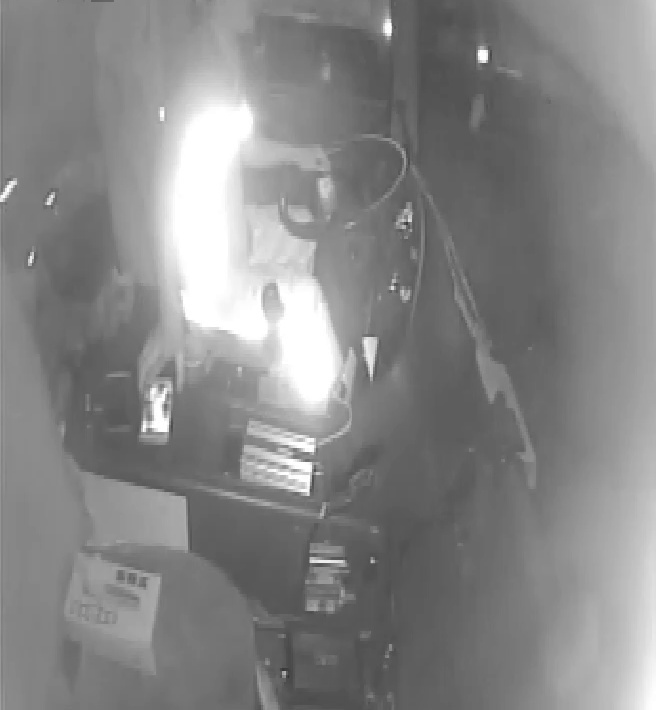cellphone: (136, 373, 174, 445)
